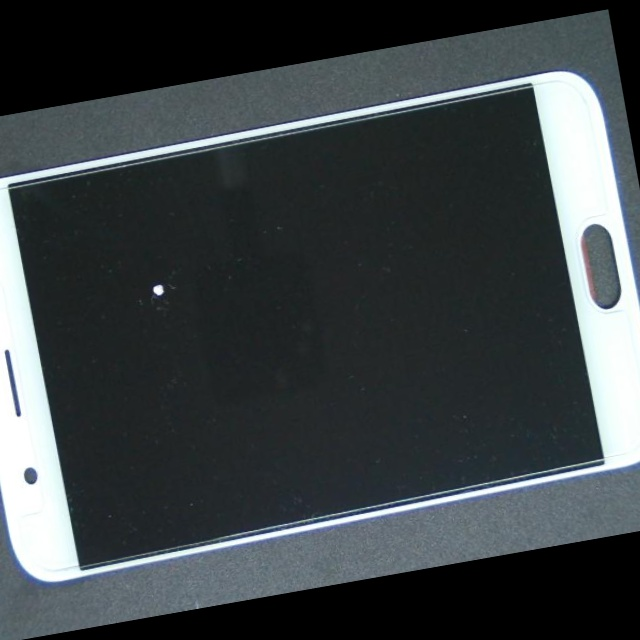stain: (36, 142, 272, 401)
